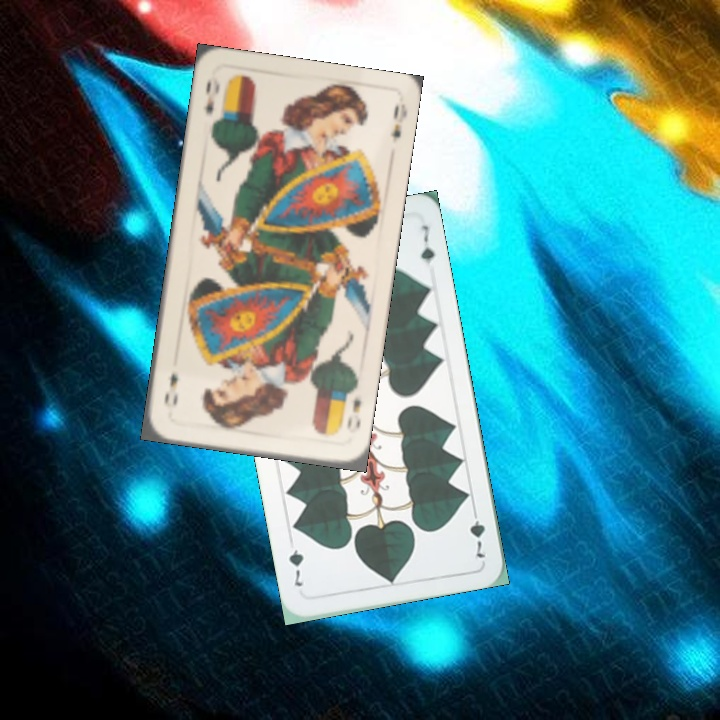EO: (200, 72, 223, 117), (342, 392, 364, 432)
G7: (465, 503, 491, 561)
